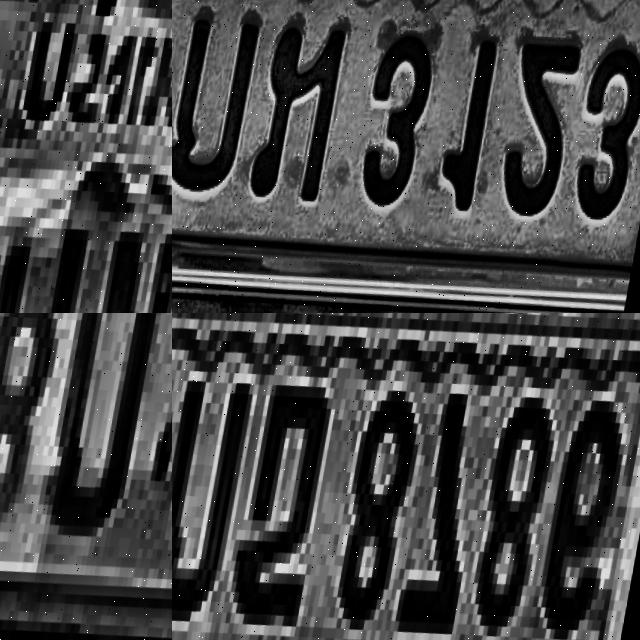license-plate: (172, 313, 640, 640), (172, 0, 640, 313), (0, 313, 172, 640), (0, 0, 172, 313)
